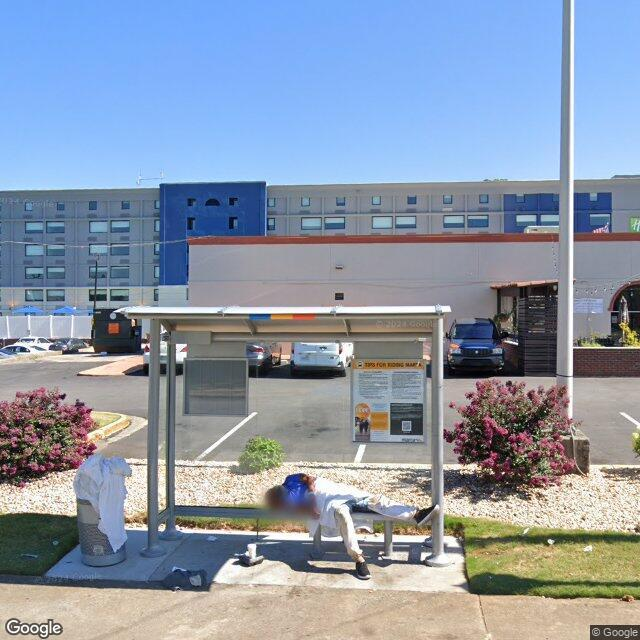seating: (298, 497, 418, 561)
shelter: (112, 304, 452, 568)
trash_can: (76, 492, 128, 568)
